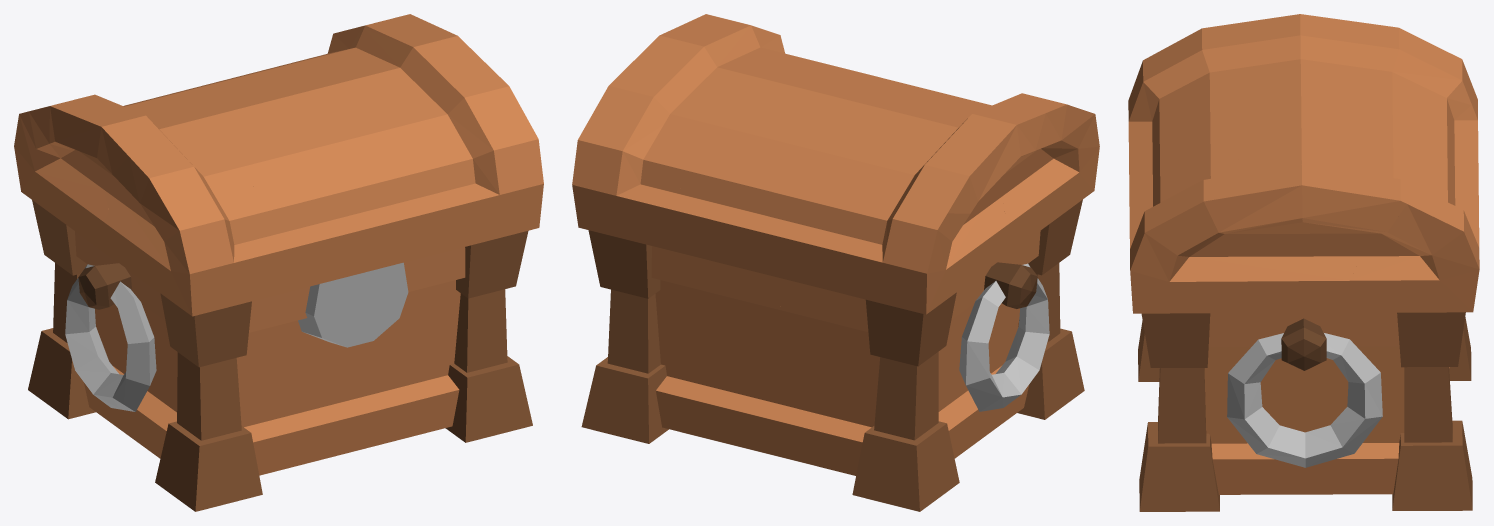
Rendered from chest_broken.fbx.
3 views of the same model, side by side, from view 1: azimuth 30°, elevation 25°; view 2: azimuth 150°, elevation 25°; view 3: azimuth 270°, elevation 25° (orthographic).
Parts seen in each view (by area): view 1: chest_Part_13, chest_Part_14, chest_Part_12, chest_Part_8, chest_Part_2, chest_Part_3, chest_Part_9, chest_Part_6, chest_Part_11, chest_Part_1, chest_Part_10, chest_Part_4; view 2: chest_Part_8, chest_Part_5, chest_Part_4, chest_Part_7, chest_Part_1, chest_Part_3, chest_Part_2, chest_Part_12, chest_Part_13, chest_Part_10, chest_Part_11, chest_Part_6; view 3: chest_Part_2, chest_Part_10, chest_Part_7, chest_Part_3, chest_Part_5, chest_Part_1, chest_Part_4, chest_Part_12, chest_Part_6, chest_Part_9, chest_Part_11, chest_Part_14 (+2 smaller).
Boxes of the visible parts, x1=… form: chest_Part_13: x1=111, y1=315, x2=428, y2=511; chest_Part_14: x1=292, y1=127, x2=520, y2=332; chest_Part_12: x1=104, y1=156, x2=308, y2=381; chest_Part_8: x1=14, y1=111, x2=175, y2=422; chest_Part_2: x1=334, y1=14, x2=543, y2=263; chest_Part_3: x1=29, y1=94, x2=265, y2=210; chest_Part_9: x1=387, y1=325, x2=532, y2=442; chest_Part_6: x1=264, y1=101, x2=405, y2=240; chest_Part_11: x1=185, y1=83, x2=352, y2=141; chest_Part_1: x1=123, y1=77, x2=337, y2=111; chest_Part_10: x1=428, y1=289, x2=519, y2=366; chest_Part_4: x1=171, y1=26, x2=364, y2=93; chest_Part_8: x1=792, y1=211, x2=1049, y2=511; chest_Part_5: x1=581, y1=325, x2=887, y2=503; chest_Part_4: x1=651, y1=92, x2=841, y2=311; chest_Part_7: x1=572, y1=91, x2=728, y2=340; chest_Part_1: x1=761, y1=83, x2=943, y2=266; chest_Part_3: x1=899, y1=93, x2=1045, y2=213; chest_Part_2: x1=606, y1=14, x2=804, y2=107; chest_Part_12: x1=1003, y1=93, x2=1099, y2=280; chest_Part_13: x1=960, y1=276, x2=1084, y2=454; chest_Part_10: x1=650, y1=280, x2=800, y2=327; chest_Part_11: x1=780, y1=76, x2=912, y2=134; chest_Part_6: x1=797, y1=58, x2=941, y2=95; chest_Part_2: x1=1130, y1=145, x2=1407, y2=358; chest_Part_10: x1=1148, y1=313, x2=1429, y2=483; chest_Part_7: x1=1326, y1=181, x2=1479, y2=419; chest_Part_3: x1=1183, y1=14, x2=1442, y2=108; chest_Part_5: x1=1265, y1=337, x2=1472, y2=510; chest_Part_1: x1=1301, y1=49, x2=1478, y2=151; chest_Part_4: x1=1324, y1=132, x2=1478, y2=215; chest_Part_12: x1=1128, y1=22, x2=1242, y2=157; chest_Part_6: x1=1133, y1=102, x2=1268, y2=169; chest_Part_9: x1=1139, y1=397, x2=1266, y2=511; chest_Part_11: x1=1240, y1=84, x2=1334, y2=149; chest_Part_14: x1=1129, y1=156, x2=1208, y2=373.
Size of the model in its own units: 122 by 98.52 by 94.29.
Materials: 1 (1 with a texture image).
